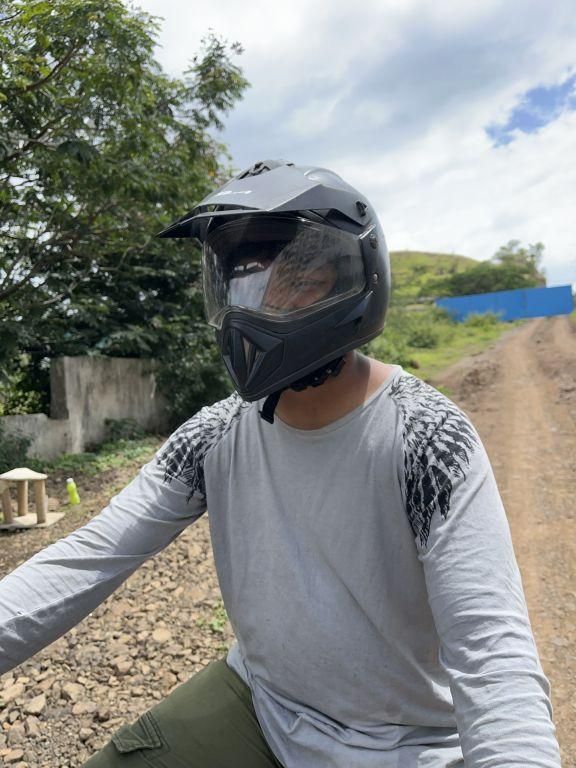helmet: (157, 140, 404, 407)
